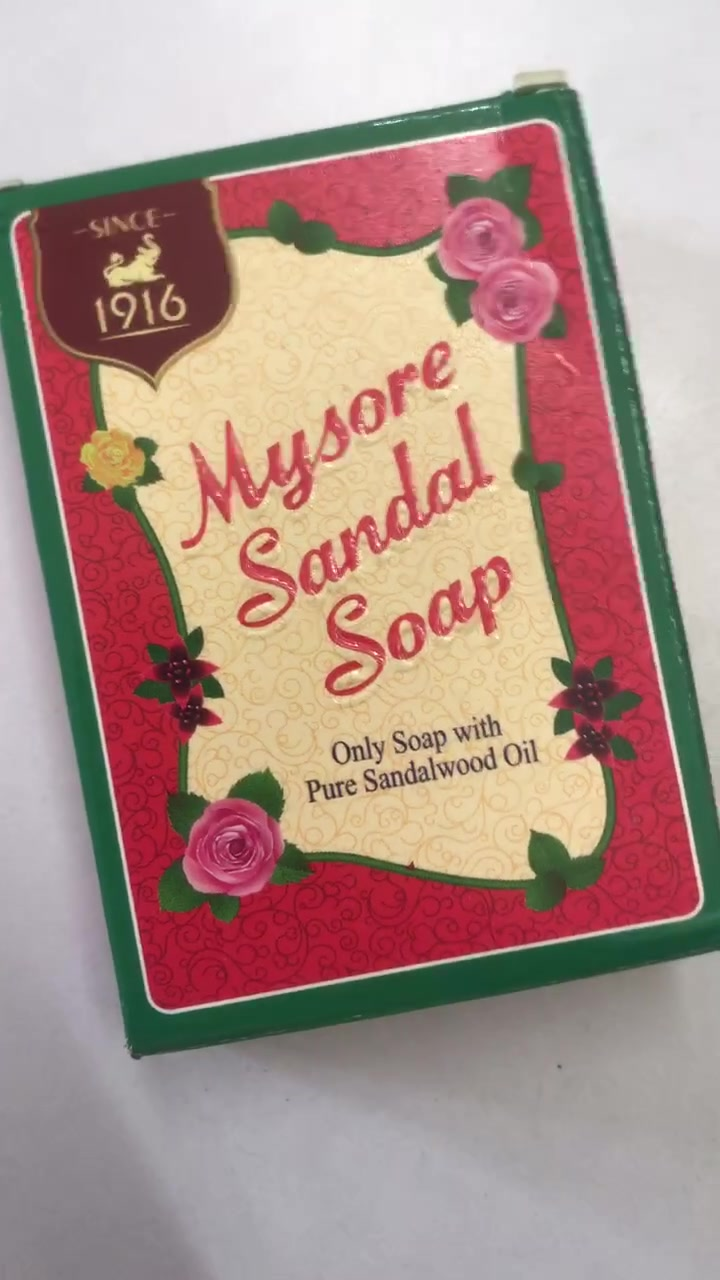mysore sandal soap: (5, 102, 720, 1054)
